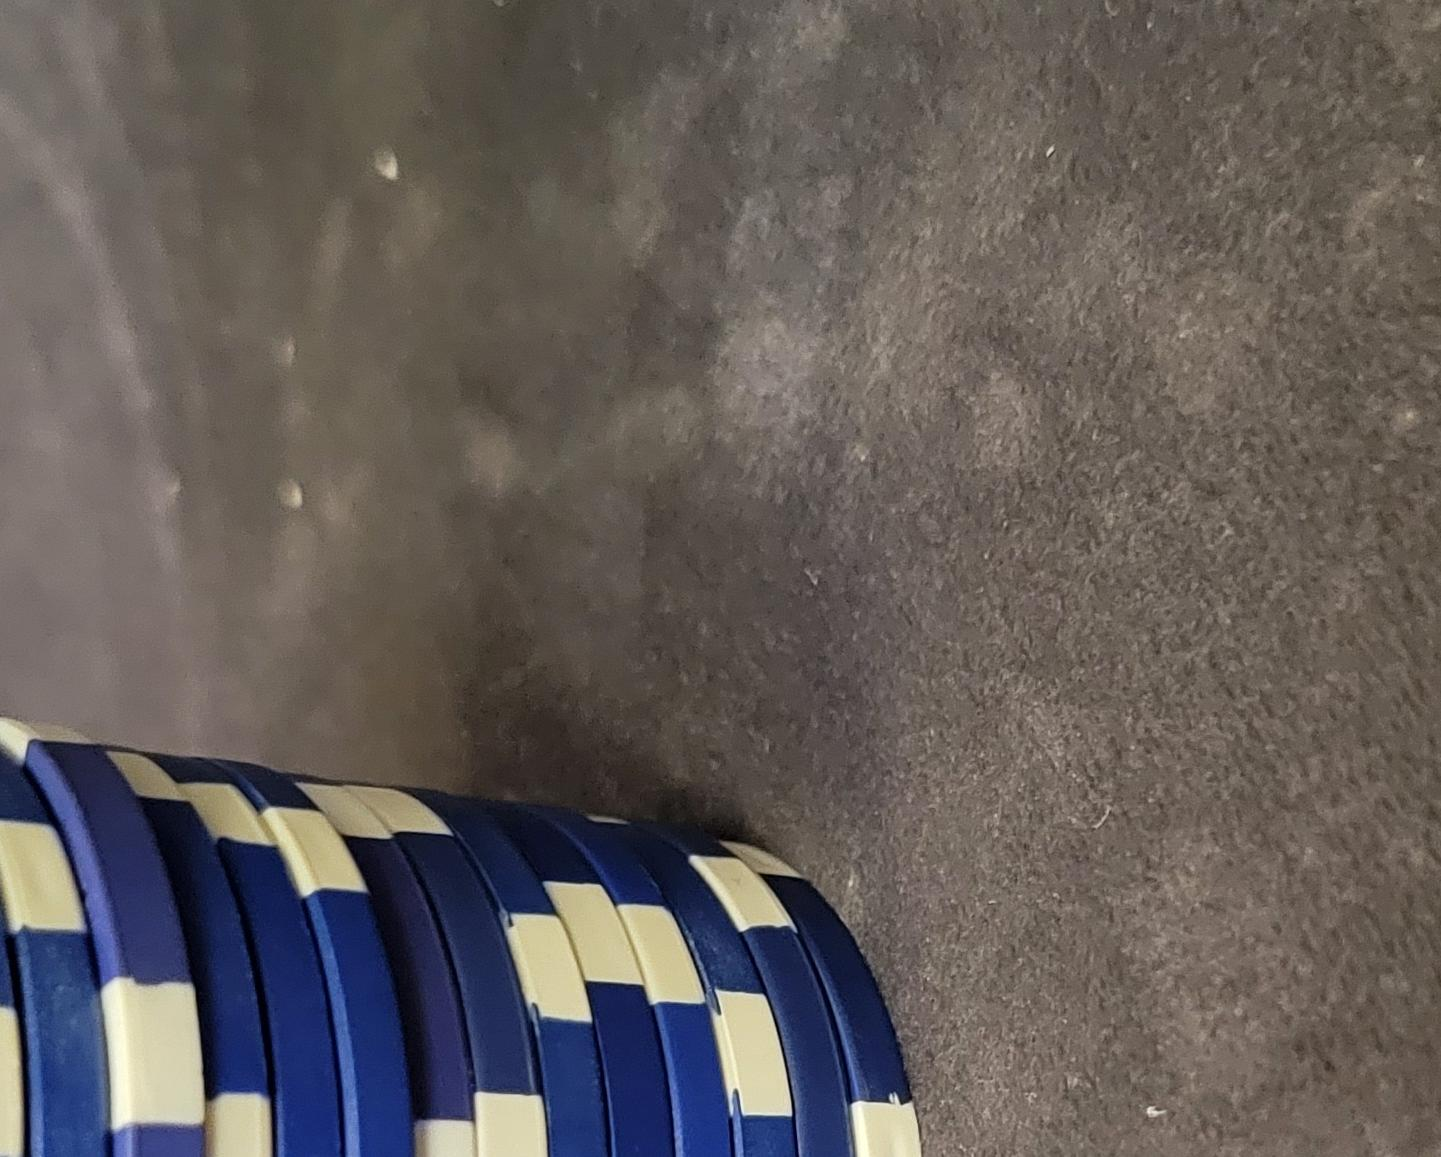Chip: (1, 149, 795, 1157)
